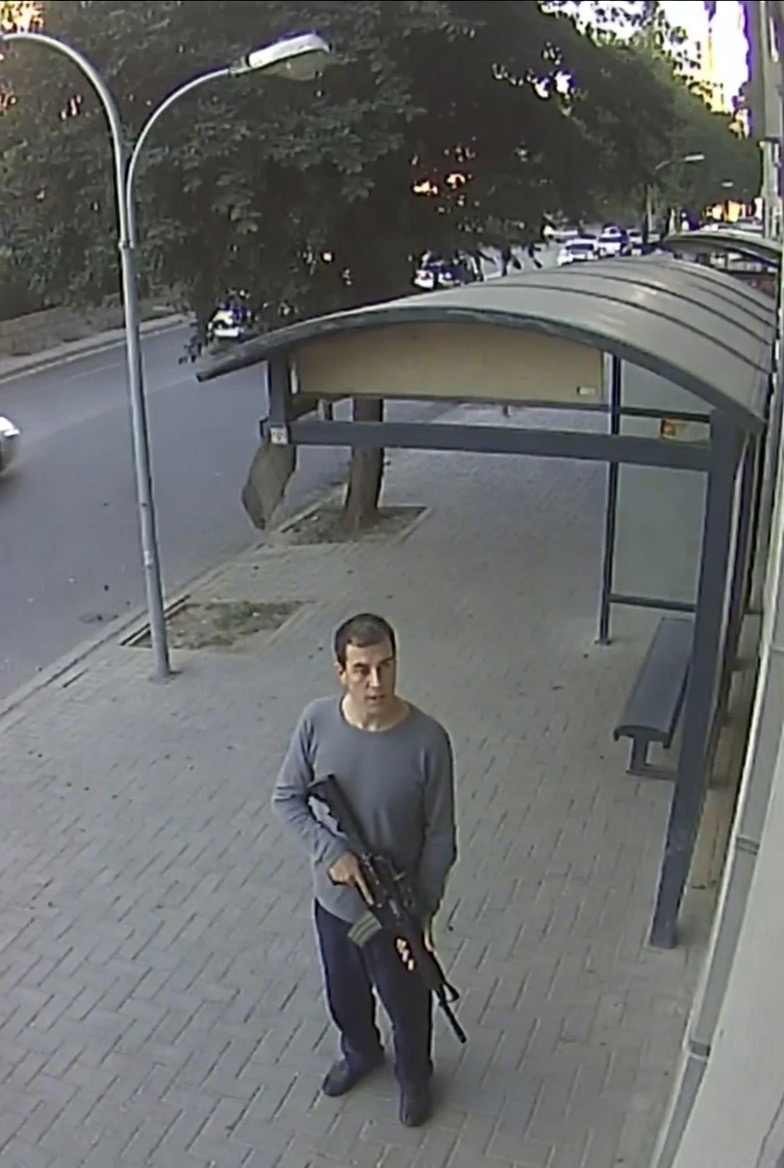gun: (298, 770, 483, 1044)
person: (274, 608, 452, 1124)
